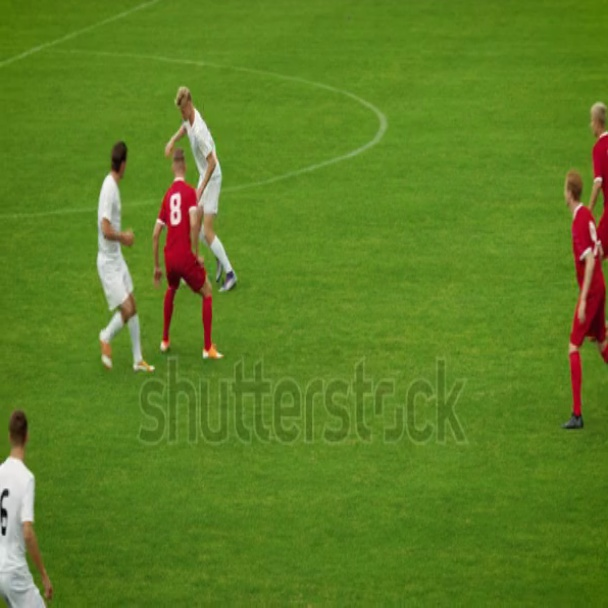ball: (194, 252, 211, 287)
